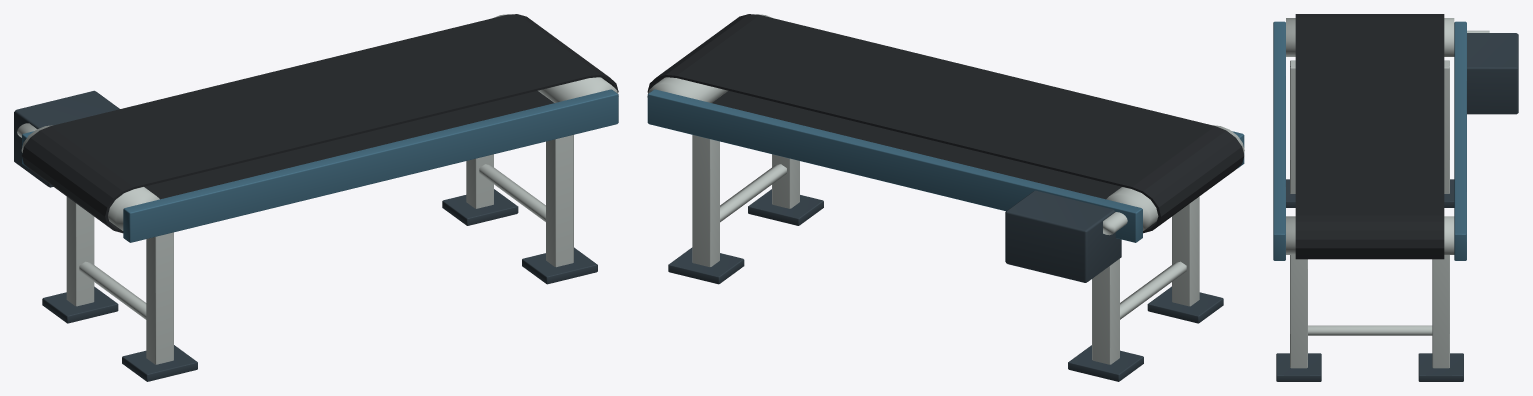
The model's file is S086_conveyor_belt_rebuilt.glb.
3 views of the same model, side by side, from view 1: azimuth 30°, elevation 25°; view 2: azimuth 150°, elevation 25°; view 3: azimuth 270°, elevation 25° (orthographic). The views are drawn at different scales.
Visible parts, largest first — view 1: rubber, blue, silver, shell; view 2: rubber, blue, silver, shell; view 3: rubber, silver, shell, blue.
Boxes of the visible parts, x1,y1,x2,y2 form: rubber: (22, 14, 618, 233); blue: (22, 89, 618, 242); silver: (17, 14, 617, 364); shell: (14, 90, 597, 381); rubber: (647, 14, 1244, 233); blue: (647, 89, 1244, 242); silver: (647, 14, 1244, 364); shell: (668, 189, 1223, 381); rubber: (1295, 14, 1444, 259); silver: (1286, 18, 1489, 368); shell: (1276, 33, 1518, 381); blue: (1273, 21, 1466, 260).
Size of the model in its own units: 2.8 by 0.98 by 1.3.
